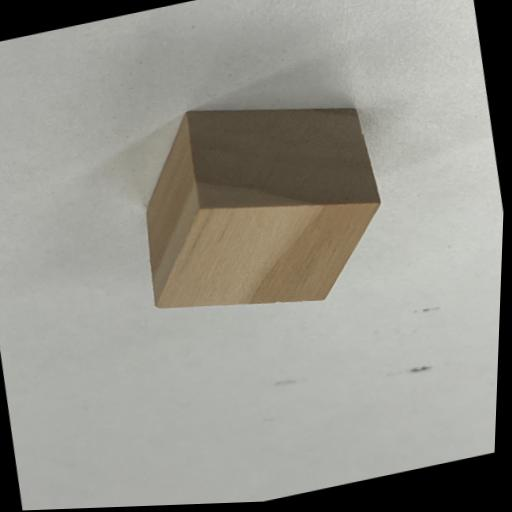wood cube: (146, 108, 380, 308)
